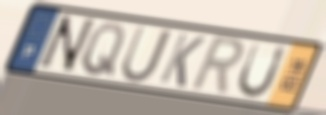K: (156, 31, 208, 91)
N: (33, 13, 98, 75)
Q: (79, 21, 128, 79)
R: (186, 34, 248, 99)
U: (117, 23, 175, 85), (235, 40, 289, 100)
